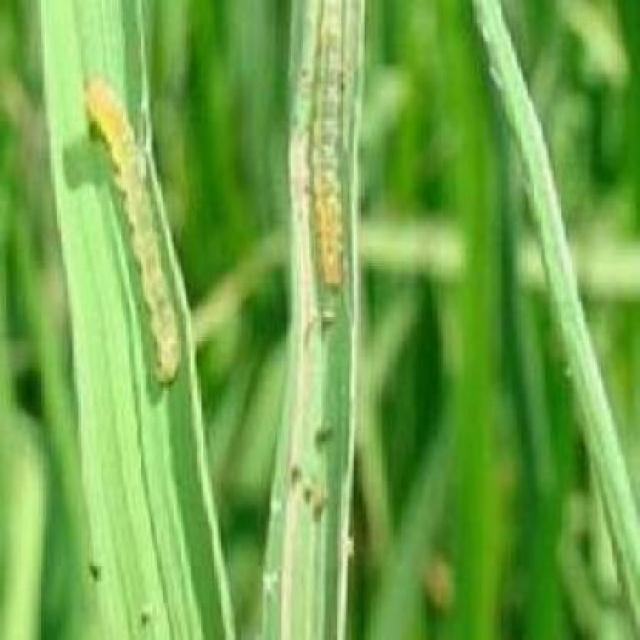leaf-folder: (72, 69, 200, 417), (284, 8, 390, 337)
